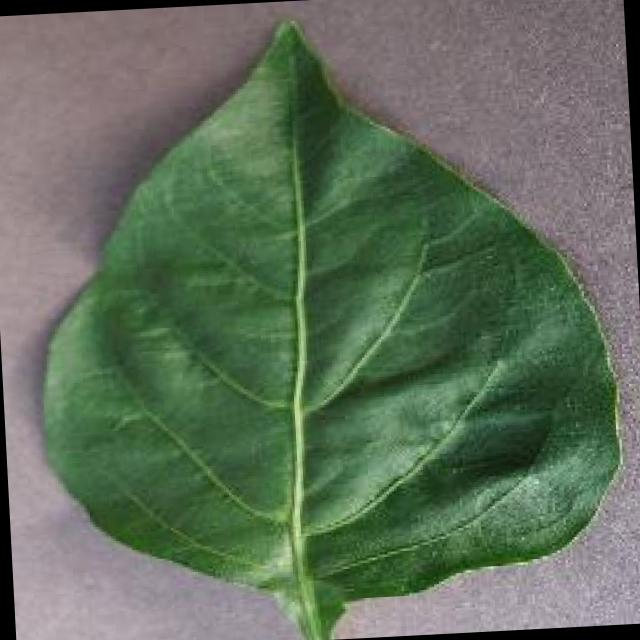Chilli_Healthy: (19, 0, 631, 640)
